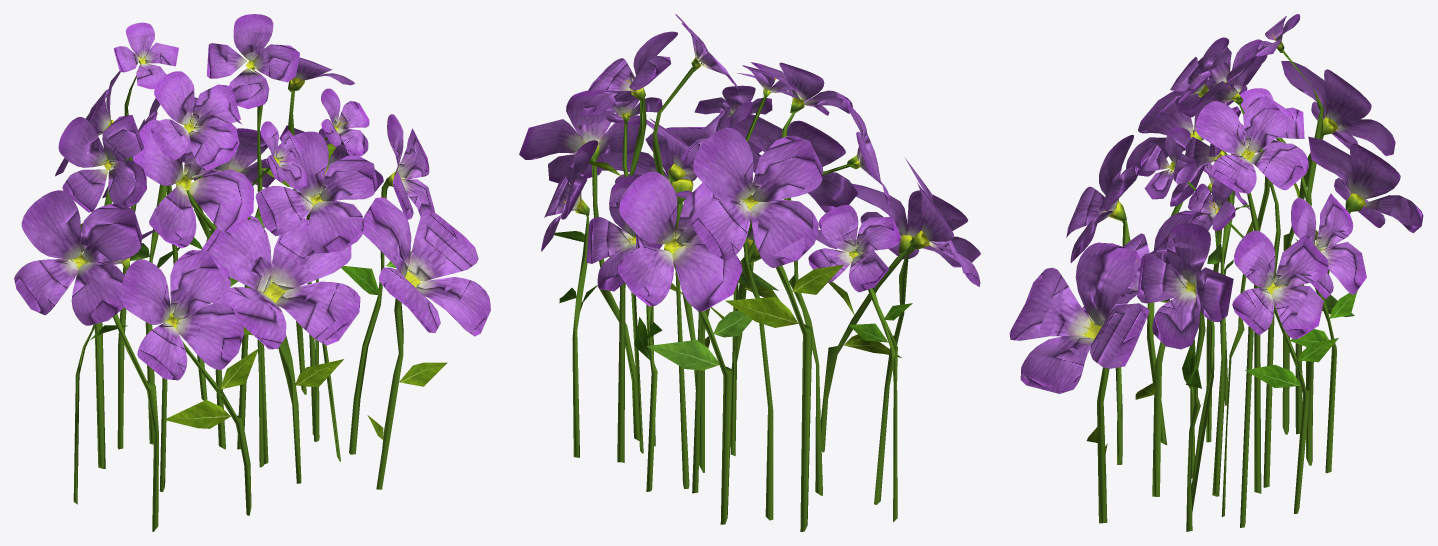
3 renders of one model, left to right at view 1: azimuth 30°, elevation 25°; view 2: azimuth 150°, elevation 25°; view 3: azimuth 270°, elevation 25°, orthographic. The views are drawn at different scales.
Visible parts, largest first — view 1: flowers_purple.2; view 2: flowers_purple.2; view 3: flowers_purple.2.
Part boxes in pixels (x1=…): flowers_purple.2: x1=14, y1=14, x2=490, y2=531; flowers_purple.2: x1=519, y1=14, x2=980, y2=531; flowers_purple.2: x1=1009, y1=14, x2=1423, y2=531.
Bounding box in the file's own units: 1.1 × 1.14 × 0.9321.
1 material, 1 textured.
